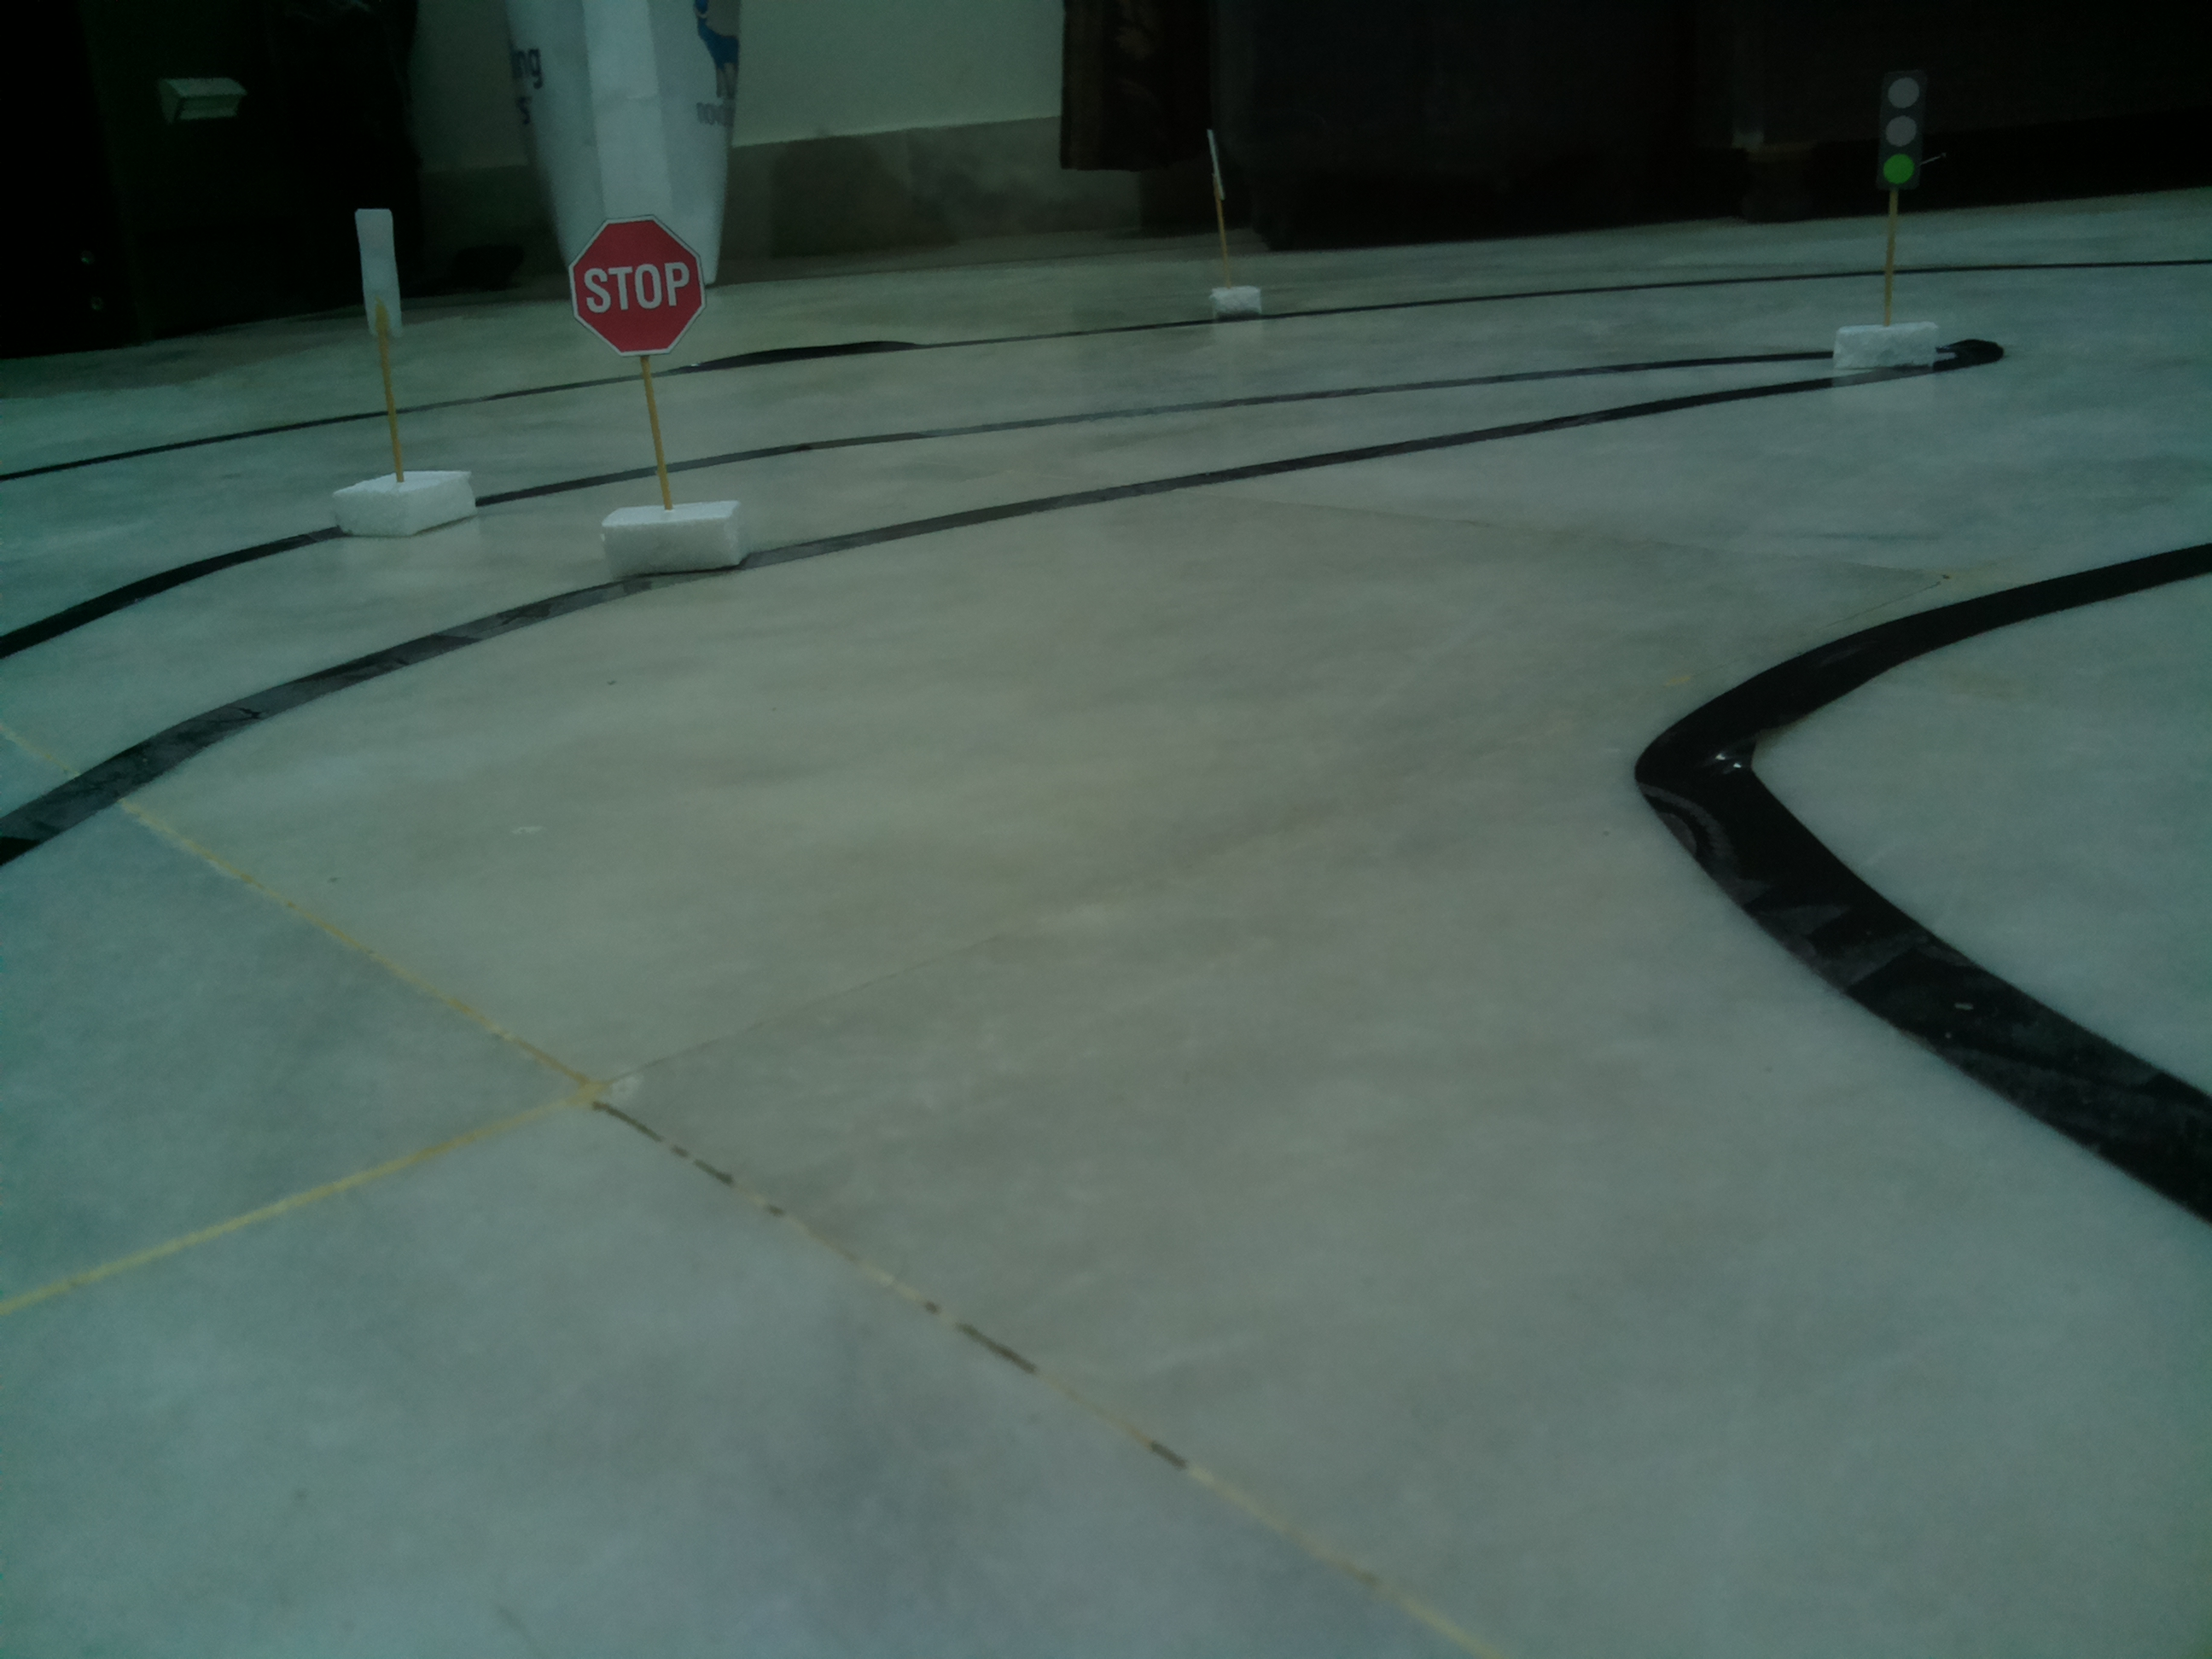Stop sign: (564, 216, 712, 359)
